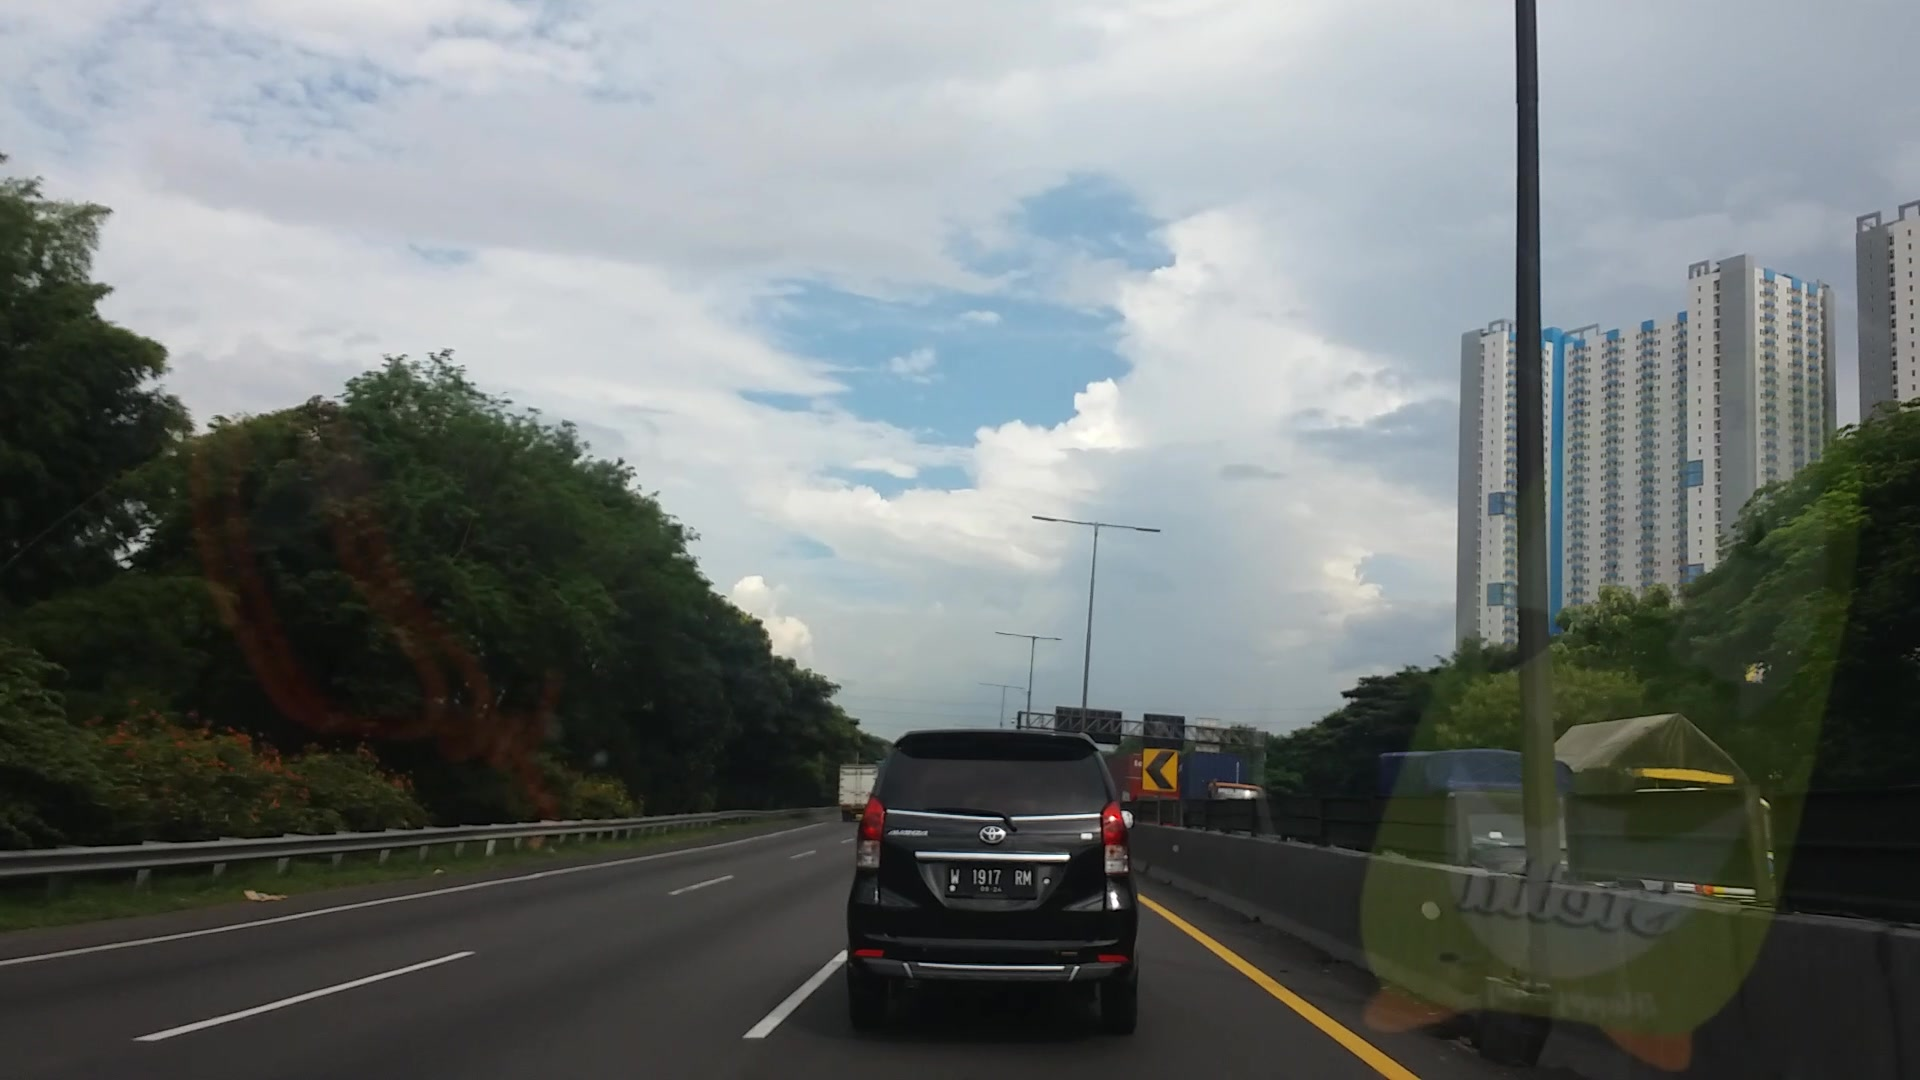plate_positive: (945, 865, 1035, 895)
